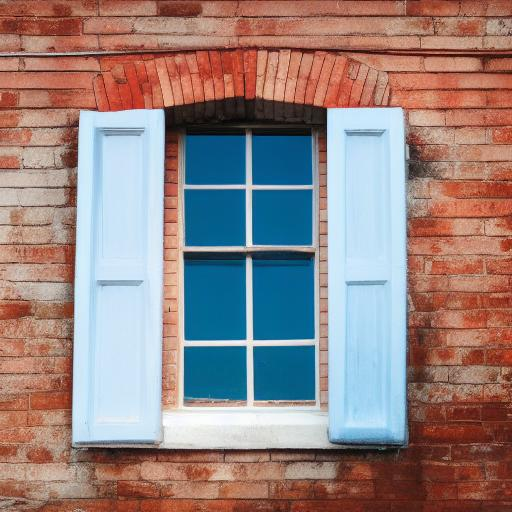Window: (71, 52, 411, 451)
